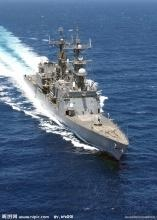warship: (29, 25, 131, 160)
